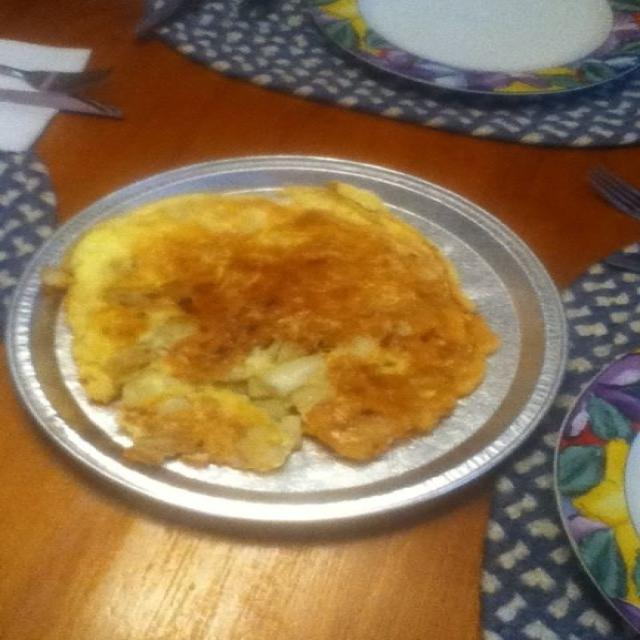面包点心: (37, 116, 531, 578)
